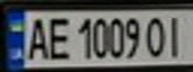0: (90, 15, 109, 60), (109, 13, 127, 60)
1: (72, 13, 93, 60)
9: (124, 13, 145, 60)
A: (24, 14, 51, 62)
E: (45, 14, 72, 61)
I: (163, 12, 190, 59)
O: (145, 14, 169, 58)
